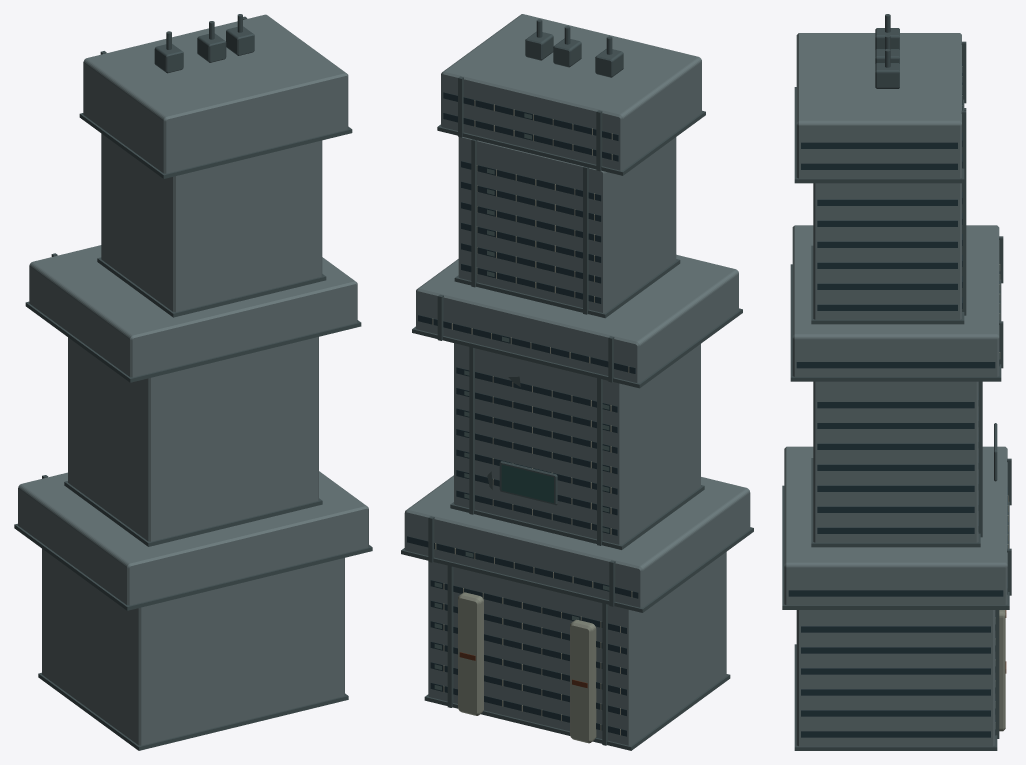
Rendered from megablock_terraced.obj.
3 renders of one model, left to right at view 1: azimuth 30°, elevation 25°; view 2: azimuth 150°, elevation 25°; view 3: azimuth 270°, elevation 25°, orthographic. The views are drawn at different scales.
Parts seen in each view (by area): view 1: structural_mass, tier_lip, rooftop_equipment; view 2: structural_mass, recessed_front, tier_lip, vertical_service_spines, podium_buttress, window_separators, rooftop_equipment, runtime_billboard, pale_window; view 3: structural_mass, recessed_side, tier_lip, vertical_service_spines, rooftop_equipment, podium_buttress, recessed_front.
Boxes of the visible parts, left/top/right/bottom form: structural_mass: left=18, top=14, right=368, bottom=745; tier_lip: left=14, top=113, right=372, bottom=750; rooftop_equipment: left=154, top=26, right=254, bottom=73; structural_mass: left=404, top=14, right=750, bottom=745; recessed_front: left=407, top=92, right=638, bottom=736; tier_lip: left=401, top=110, right=753, bottom=750; vertical_service_spines: left=428, top=76, right=615, bottom=745; podium_buttress: left=458, top=592, right=596, bottom=743; window_separators: left=432, top=100, right=632, bottom=735; rooftop_equipment: left=525, top=31, right=623, bottom=77; runtime_billboard: left=501, top=464, right=553, bottom=503; pale_window: left=434, top=113, right=609, bottom=690; structural_mass: left=784, top=33, right=1007, bottom=746; recessed_side: left=788, top=142, right=1003, bottom=737; tier_lip: left=782, top=87, right=1009, bottom=750; vertical_service_spines: left=961, top=41, right=1011, bottom=738; rooftop_equipment: left=875, top=28, right=899, bottom=88; podium_buttress: left=999, top=610, right=1005, bottom=731; recessed_front: left=962, top=63, right=1007, bottom=735.
Size of the model in its own units: 34.5 by 89.45 by 27.74.
